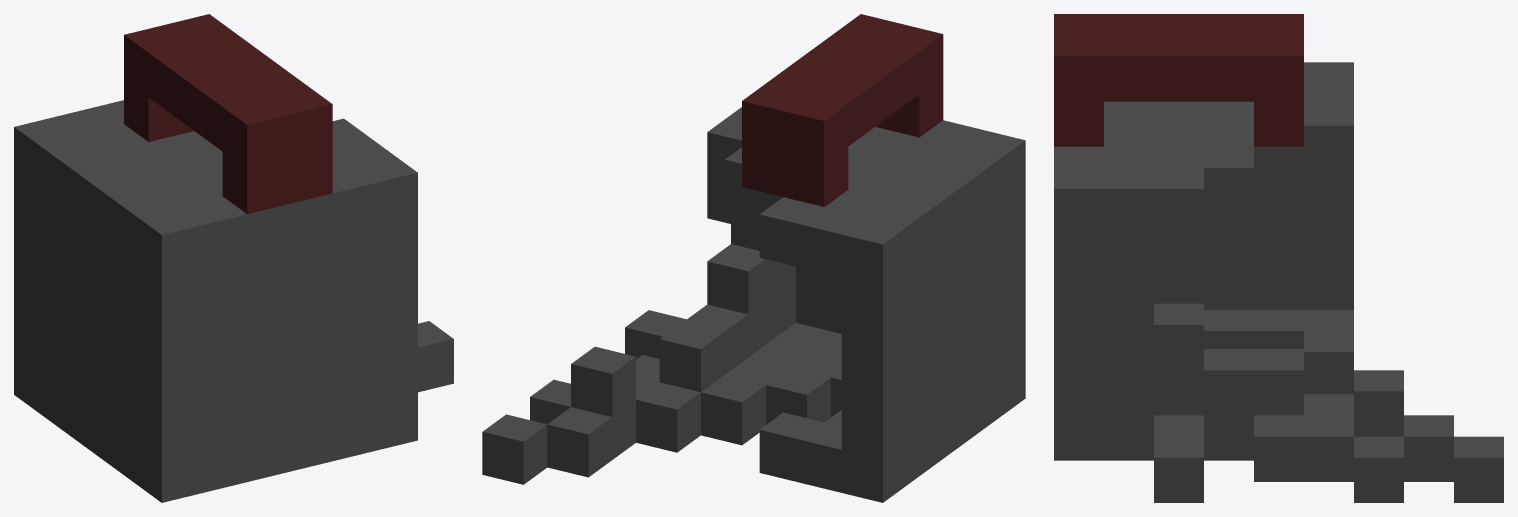
The model's file is CupGrayDestroy.obj.
3 views of the same model, side by side, from view 1: azimuth 30°, elevation 25°; view 2: azimuth 150°, elevation 25°; view 3: azimuth 270°, elevation 25° (orthographic). The views are drawn at different scales.
Bounding box in the file's own units: 0.8 × 0.8 × 0.9.
Materials: 1 (1 with a texture image).
